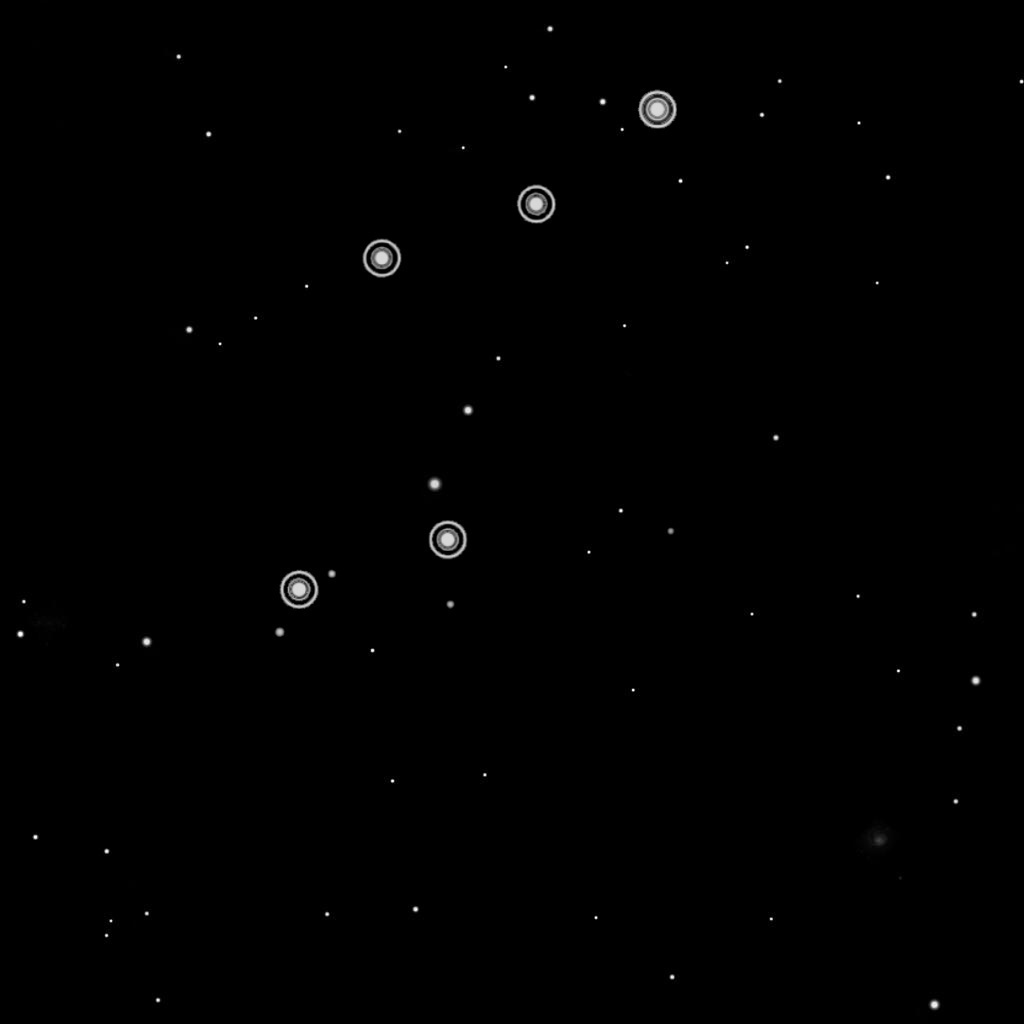lyra: (274, 80, 682, 621)
